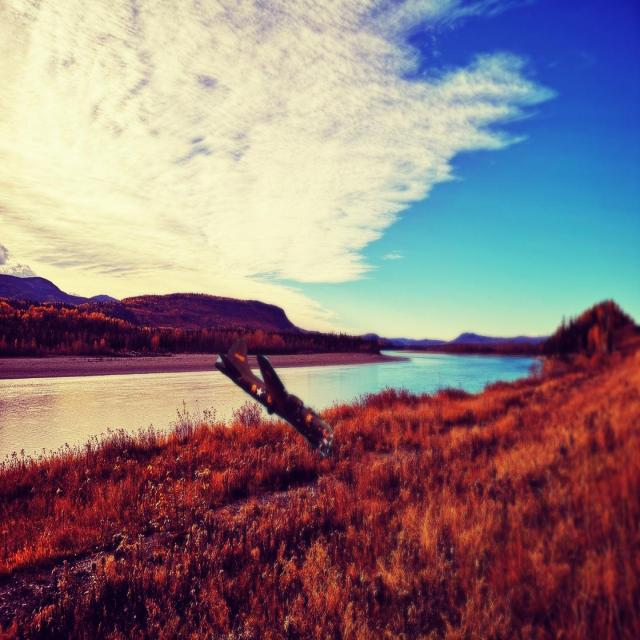airplane: (214, 337, 334, 458)
